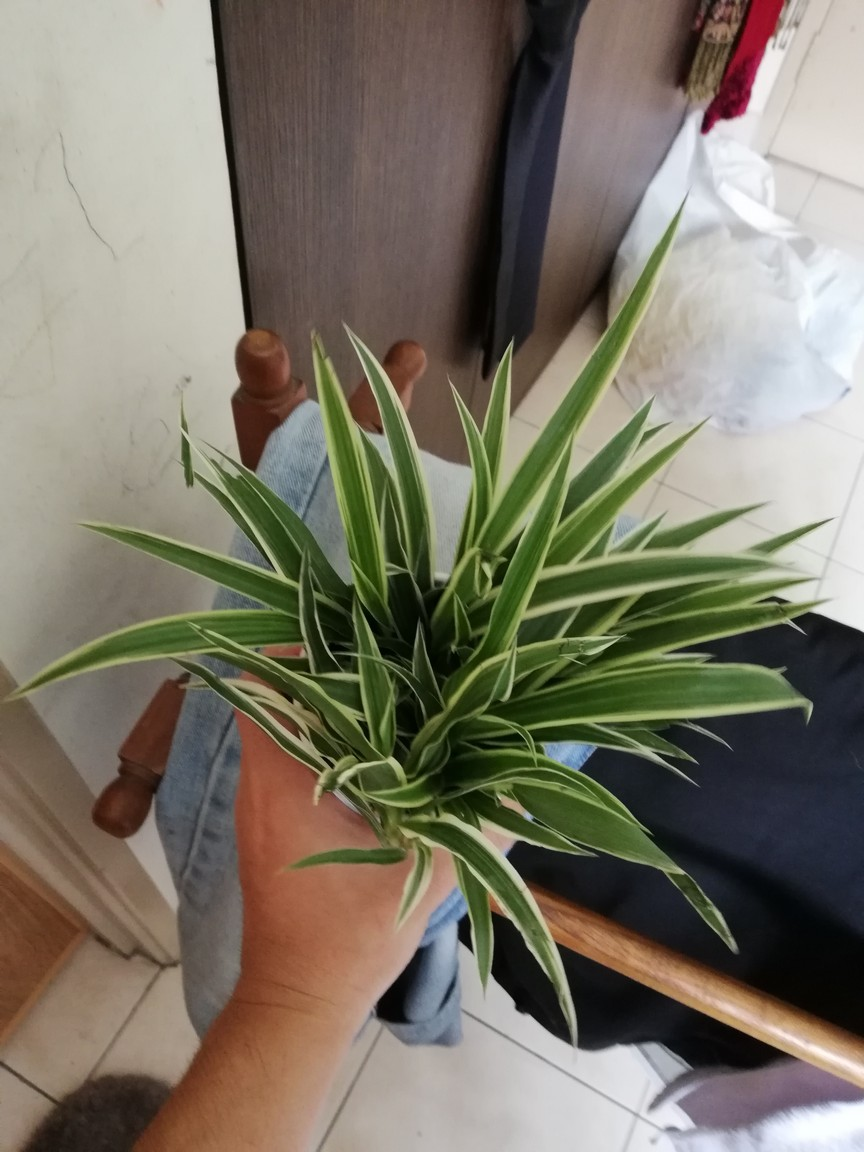daun: (573, 178, 690, 397), (1, 615, 164, 718), (491, 884, 584, 1050), (66, 513, 228, 590), (526, 421, 579, 581), (338, 319, 407, 435), (666, 858, 744, 958), (492, 807, 597, 863), (265, 845, 406, 884), (478, 334, 515, 472), (681, 492, 777, 544), (464, 866, 500, 1003), (310, 323, 341, 482), (298, 538, 331, 675), (444, 371, 483, 481), (744, 591, 839, 636), (609, 385, 657, 465), (756, 510, 841, 552), (617, 504, 676, 561), (728, 569, 822, 602), (398, 847, 433, 927), (681, 713, 744, 757), (407, 617, 438, 696), (346, 557, 387, 614), (658, 647, 719, 679), (654, 733, 701, 770), (653, 754, 697, 791), (452, 589, 472, 648), (645, 407, 675, 438)
